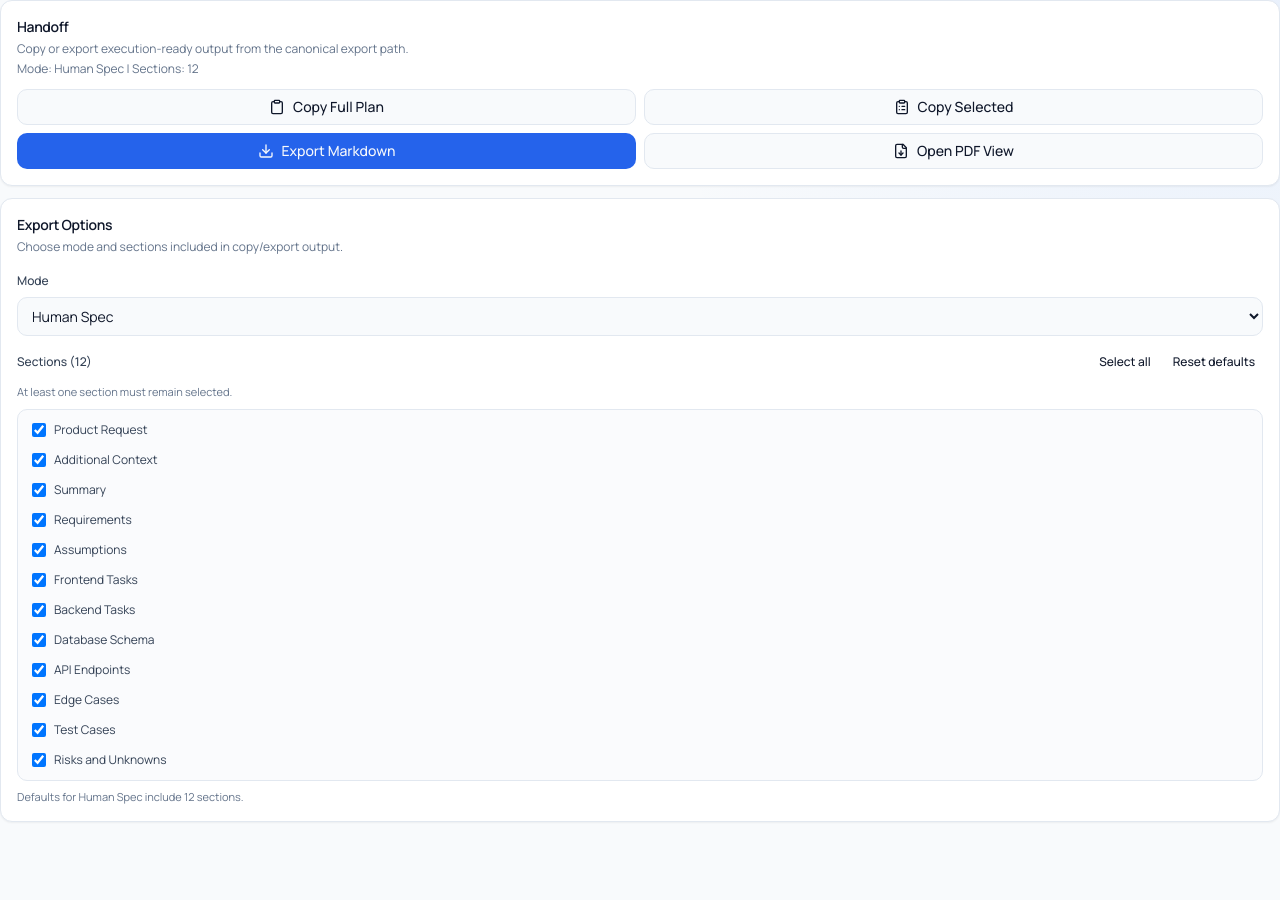
Test: SpecHandoffActions › treats codex-ready as a fixed prompt and removes partial-copy behavior
Expected: the button "Copy Selected" is shown, [644, 89, 1263, 125]
Expected: the text "Mode: Human Spec | Sections: 12" is shown, [17, 60, 199, 77]
Select "Codex-Ready" in the dropdown labelled "Mode" at point(640, 316), box [17, 297, 1263, 336]
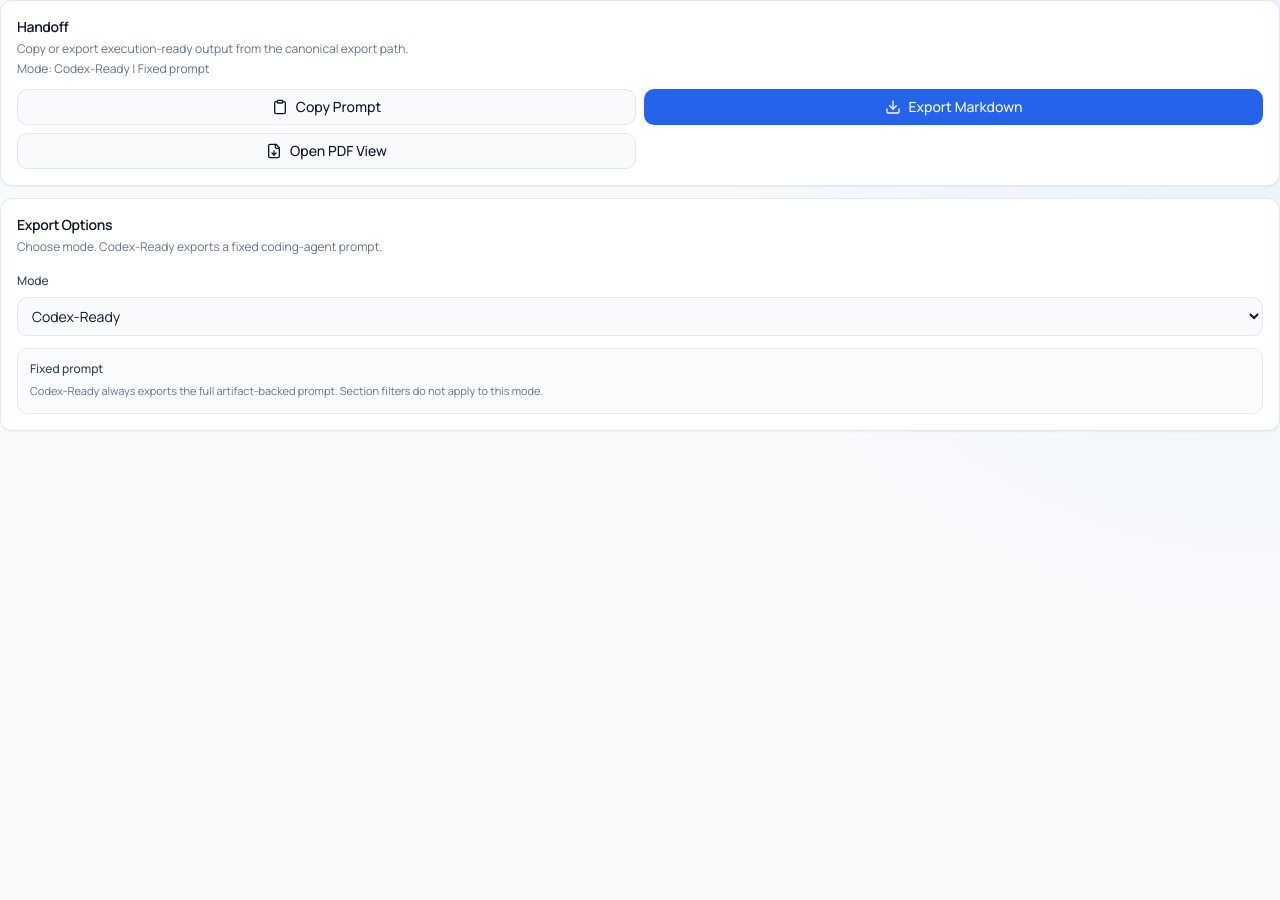
Now the button "Copy Selected" is gone
Now the button "Copy Prompt" is shown, box [17, 89, 636, 125]
Now the text "Fixed prompt" is shown, box [30, 360, 103, 377]
